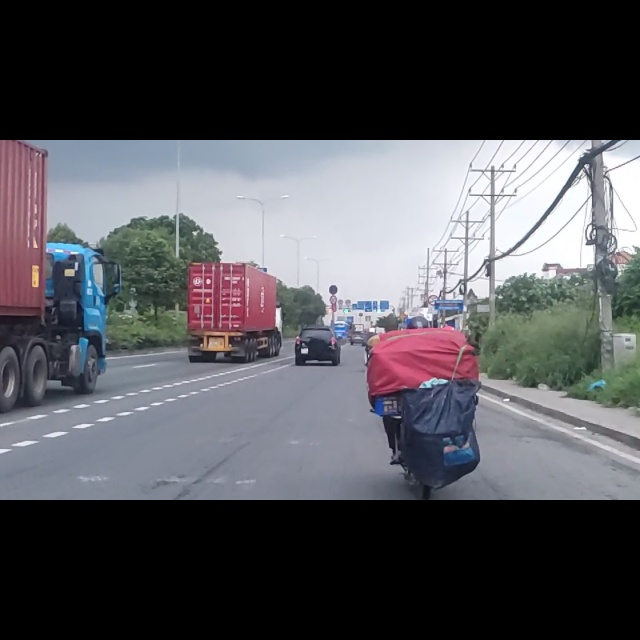bien_cam: (427, 275, 439, 295), (329, 256, 339, 273)
